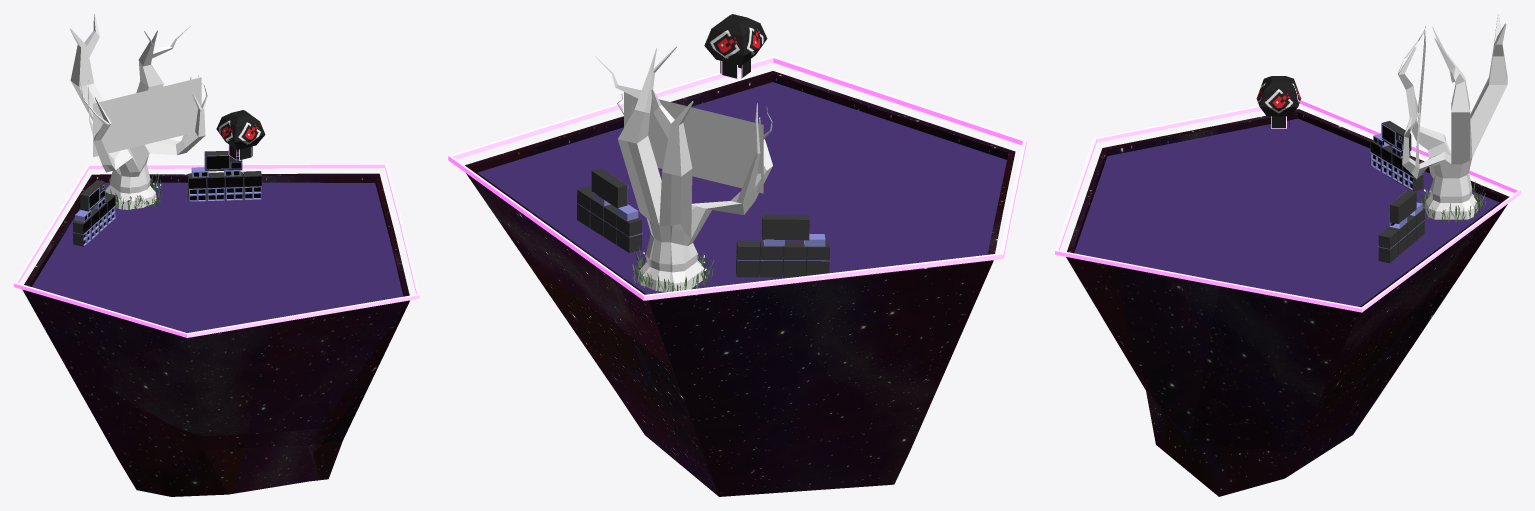
Rendered from palco.glb.
3 views of the same model, side by side, from view 1: azimuth 30°, elevation 25°; view 2: azimuth 150°, elevation 25°; view 3: azimuth 270°, elevation 25° (orthographic). The views are drawn at different scales.
Parts seen in each view (by area): view 1: chao, arvore, Screen.001, linha, Cube.001, caixaGrandeCima.001, caixaGrandeCima, caixaGrande4.001, caixaGrande2.001, caixaGrande1.001, caixaGrande3.001, caixaGrande1; view 2: chao, arvore, linha, Screen.001, Cube.001, caixaGrandeCima, caixaGrandeCima.001, caixaGrande4, caixaGrande2, caixaGrande1.001, caixaGrande3, caixaGrande1; view 3: chao, arvore, linha, Cube.001, caixaGrandeCima.001, caixaGrande4.001, caixaGrandeCima.
Part boxes in pixels (box(x1,y1,x2,y2)): chao: box(22, 173, 409, 496); arvore: box(70, 14, 207, 209); Screen.001: box(93, 77, 201, 157); linha: box(14, 163, 419, 337); Cube.001: box(216, 110, 265, 160); caixaGrandeCima.001: box(204, 150, 242, 171); caixaGrandeCima: box(80, 180, 105, 211); caixaGrande4.001: box(243, 171, 261, 199); caixaGrande2.001: box(206, 172, 225, 200); caixaGrande1.001: box(188, 173, 206, 201); caixaGrande3.001: box(225, 171, 243, 200); caixaGrande1: box(73, 217, 91, 246); chao: box(465, 71, 1015, 496); arvore: box(595, 46, 772, 291); linha: box(448, 56, 1026, 300); Screen.001: box(624, 92, 763, 193); Cube.001: box(704, 14, 767, 79); caixaGrandeCima: box(761, 214, 809, 240); caixaGrandeCima.001: box(591, 168, 628, 208); caixaGrande4: box(736, 240, 759, 277); caixaGrande2: box(782, 241, 806, 277); caixaGrande1.001: box(616, 215, 642, 252); caixaGrande3: box(759, 240, 783, 277); caixaGrande1: box(806, 241, 829, 275); chao: box(1066, 109, 1509, 496); arvore: box(1398, 14, 1507, 219); linha: box(1055, 99, 1520, 312); Cube.001: box(1256, 76, 1301, 128); caixaGrandeCima.001: box(1389, 190, 1416, 223); caixaGrande4.001: box(1378, 228, 1398, 263); caixaGrandeCima: box(1381, 121, 1411, 152).
Size of the model in its own units: 144 by 136 by 135.
Materials: 12 (2 with a texture image).
